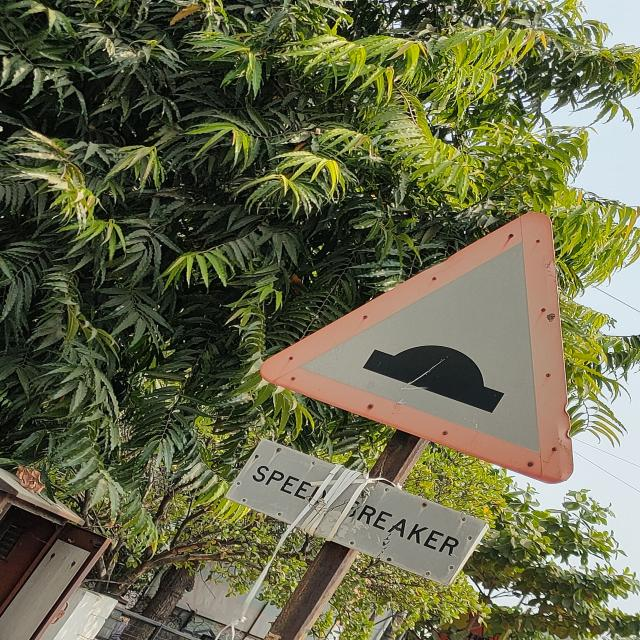horn_prohibited: (252, 211, 574, 483)
